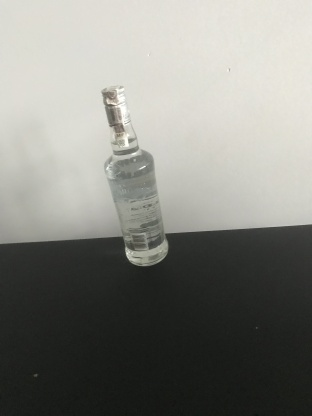nakretka: (99, 84, 132, 127)
